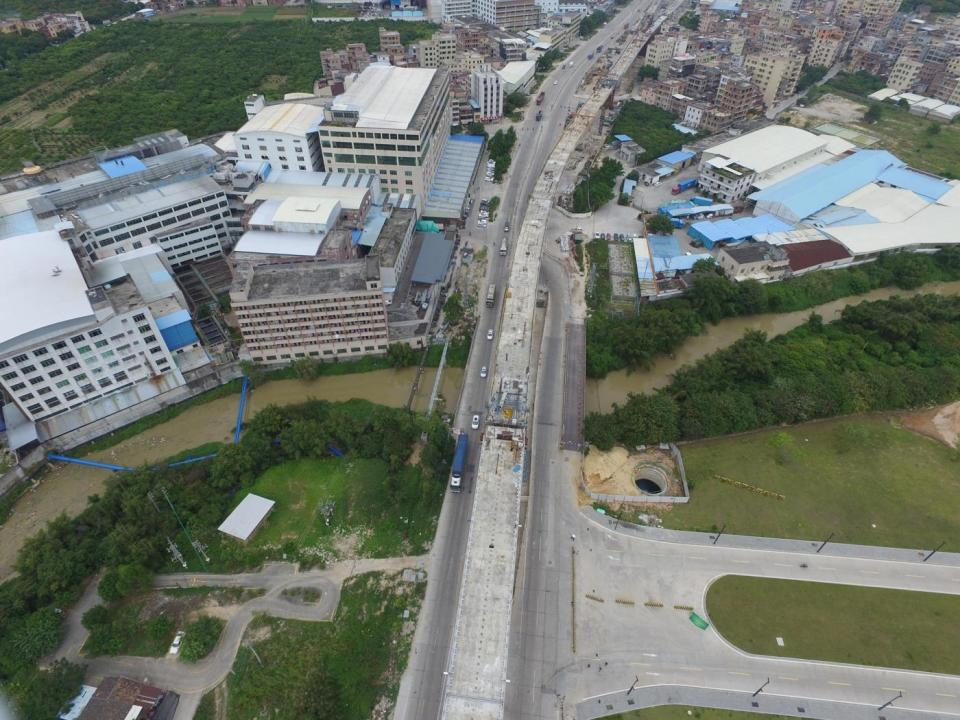bus: (485, 283, 496, 307)
car: (168, 630, 186, 654), (471, 414, 479, 429), (480, 365, 488, 378), (487, 328, 494, 340), (476, 222, 486, 228), (479, 212, 488, 218), (484, 176, 493, 182), (486, 160, 495, 166), (613, 232, 619, 241), (626, 233, 632, 242), (479, 209, 489, 214), (654, 181, 661, 187), (619, 234, 625, 241), (638, 234, 644, 241), (478, 219, 486, 224), (478, 215, 486, 220), (486, 171, 494, 176), (486, 164, 496, 168), (594, 231, 599, 239), (632, 234, 637, 242), (644, 181, 650, 187), (481, 198, 488, 203), (480, 202, 488, 206), (487, 167, 495, 171), (607, 232, 611, 240), (601, 233, 606, 239), (489, 158, 496, 162), (479, 207, 488, 210), (562, 63, 566, 69), (487, 170, 494, 173), (554, 80, 558, 84), (616, 30, 619, 34), (610, 36, 613, 39)
truck: (449, 433, 468, 494), (670, 175, 702, 195), (690, 196, 713, 208), (662, 219, 684, 229), (499, 235, 508, 256), (536, 91, 545, 104), (535, 110, 542, 121), (571, 226, 582, 233), (504, 220, 509, 232), (587, 52, 594, 60), (596, 45, 603, 52), (624, 22, 630, 29), (569, 61, 574, 67)
